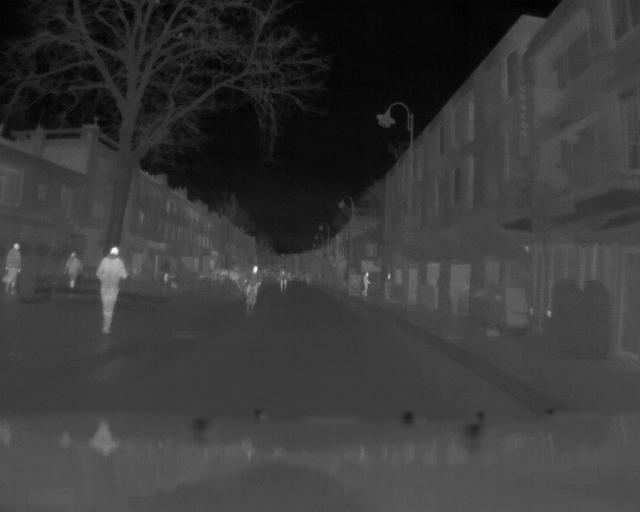person: (97, 243, 128, 339), (1, 238, 25, 299), (62, 248, 83, 295), (245, 263, 261, 308), (362, 267, 372, 298), (277, 266, 287, 292)
